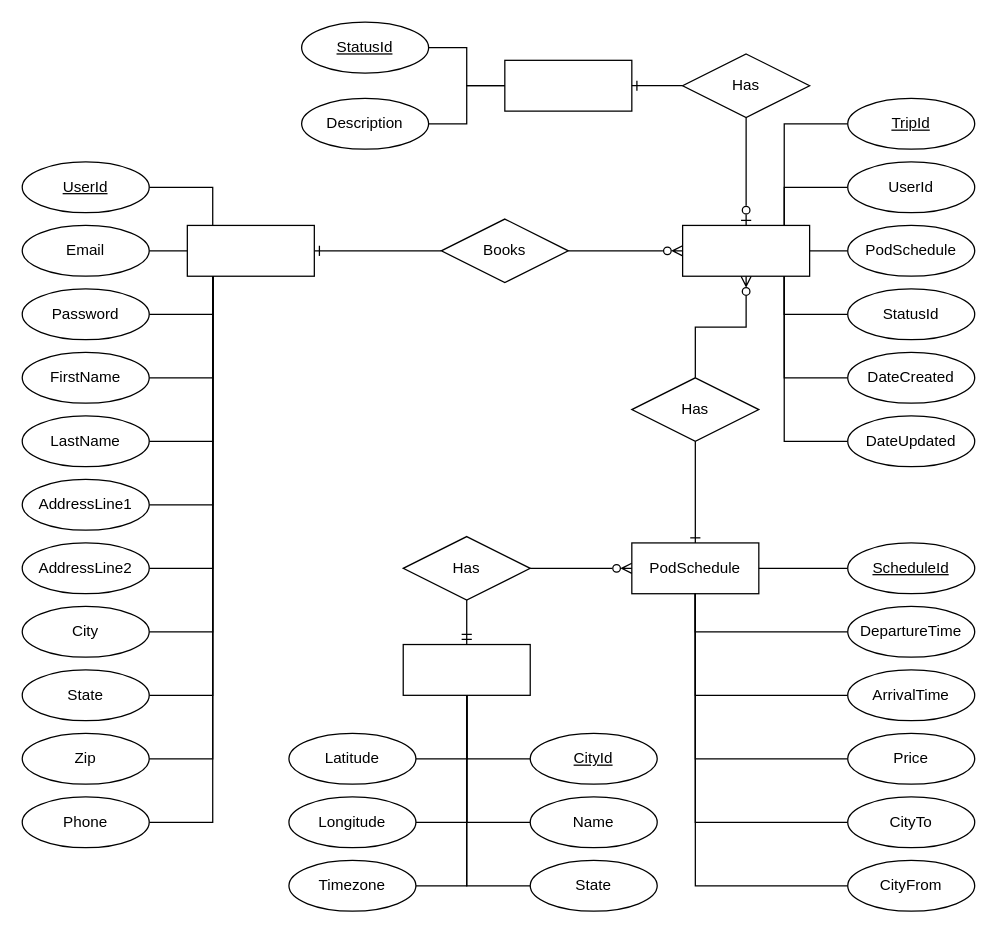
This 997x933 diagram has some shape labels left out. Each missing label, with the centre of its shape:
Cities: (466,669)
Status: (568,85)
Trip: (745,250)
User: (250,250)
